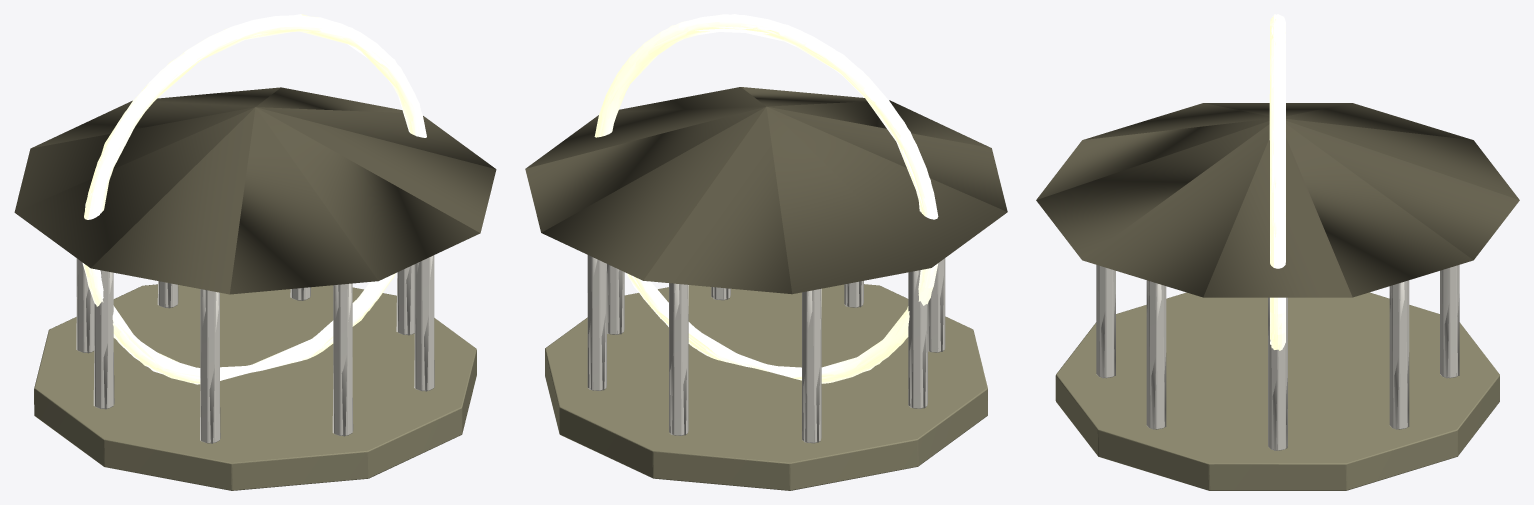
File: SM_Warmerdamm_Bandstand.fbx
The picture shows the model from 3 angles, left to right: view 1: azimuth 30°, elevation 25°; view 2: azimuth 150°, elevation 25°; view 3: azimuth 270°, elevation 25°; orthographic projection.
Parts seen in each view (by area): view 1: LOD0_SM_Warmerdamm_Bandstand, LOD3_SM_Warmerdamm_Bandstand, LOD2_SM_Warmerdamm_Bandstand, LOD1_SM_Warmerdamm_Bandstand; view 2: LOD0_SM_Warmerdamm_Bandstand, LOD3_SM_Warmerdamm_Bandstand, LOD2_SM_Warmerdamm_Bandstand, LOD1_SM_Warmerdamm_Bandstand; view 3: LOD0_SM_Warmerdamm_Bandstand, LOD3_SM_Warmerdamm_Bandstand, LOD2_SM_Warmerdamm_Bandstand, LOD1_SM_Warmerdamm_Bandstand.
Boxes of the visible parts, x1,y1,x2,y2 form: LOD0_SM_Warmerdamm_Bandstand: (14, 15, 496, 490); LOD3_SM_Warmerdamm_Bandstand: (76, 14, 434, 443); LOD2_SM_Warmerdamm_Bandstand: (34, 16, 425, 440); LOD1_SM_Warmerdamm_Bandstand: (35, 22, 476, 490); LOD0_SM_Warmerdamm_Bandstand: (525, 15, 1007, 490); LOD3_SM_Warmerdamm_Bandstand: (588, 14, 943, 442); LOD2_SM_Warmerdamm_Bandstand: (595, 14, 969, 459); LOD1_SM_Warmerdamm_Bandstand: (545, 21, 987, 490); LOD0_SM_Warmerdamm_Bandstand: (1036, 14, 1519, 490); LOD3_SM_Warmerdamm_Bandstand: (1101, 14, 1459, 450); LOD2_SM_Warmerdamm_Bandstand: (1099, 14, 1393, 490); LOD1_SM_Warmerdamm_Bandstand: (1056, 19, 1499, 490).
Bounding box in the file's own units: 4.55 × 4.03 × 4.79.
